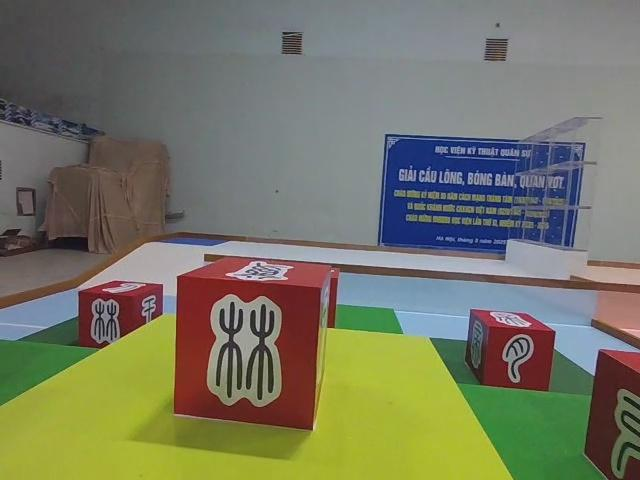R2 Fake: (171, 256, 335, 433), (464, 305, 557, 397), (76, 277, 163, 358)
